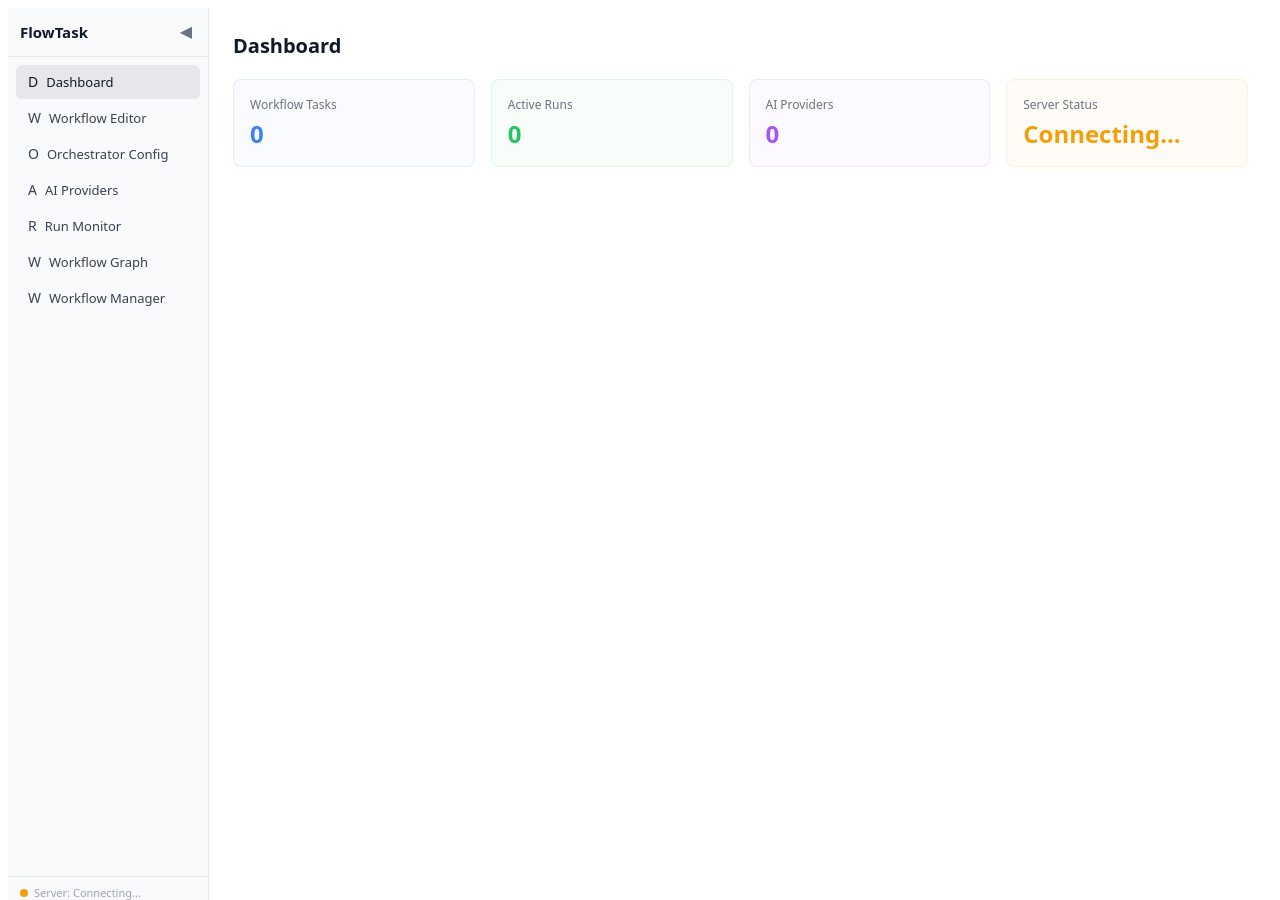
Sidebar › collapses sidebar when toggle is clicked
What coordinates should you click on to do the following:
click the button named "Collapse sidebar"
I would click on:
 (186, 32)
Its box is left=176, top=20, right=196, bottom=44.
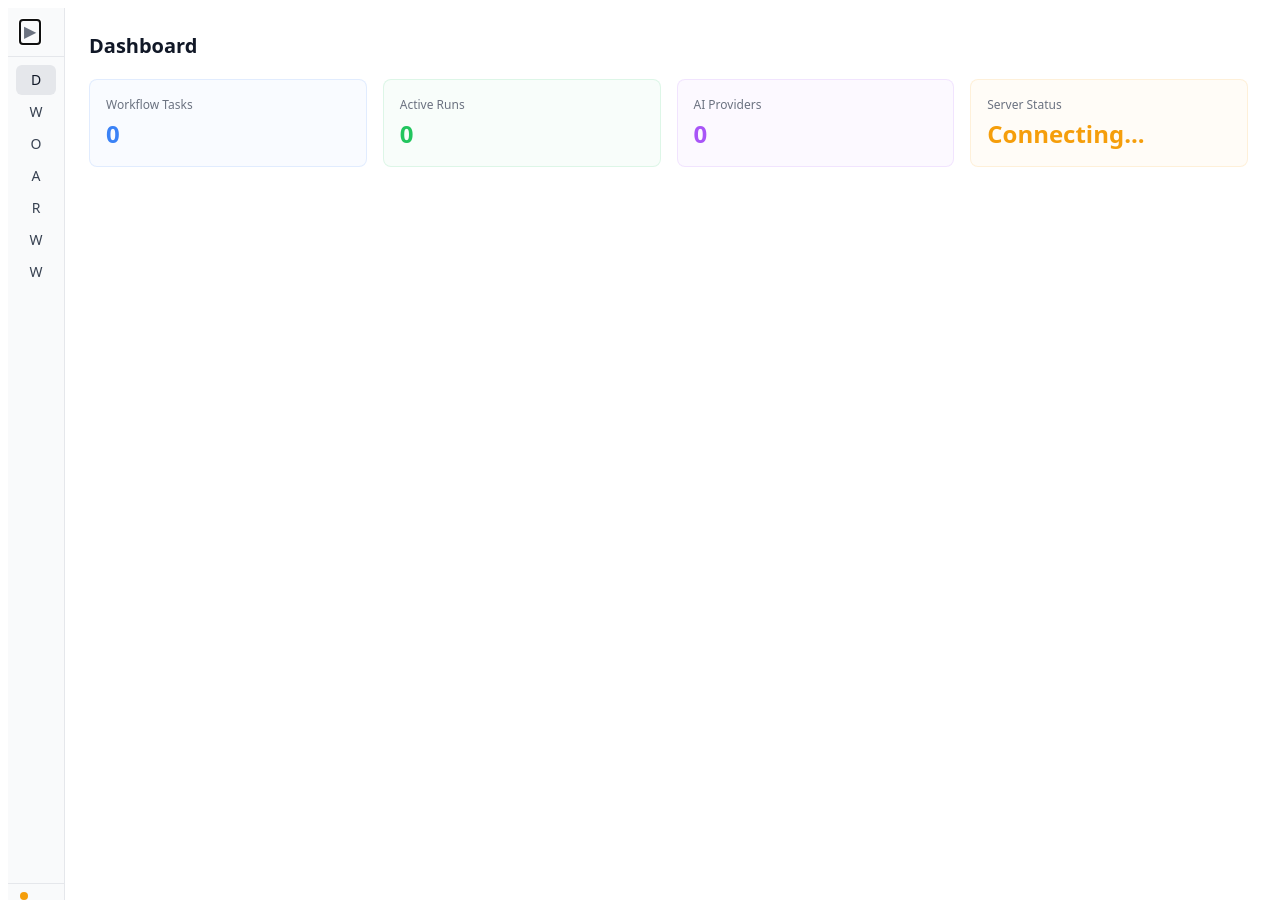
Check: the button named "Expand sidebar" is shown, box left=20, top=20, right=40, bottom=44
Check: the text "FlowTask" is gone
